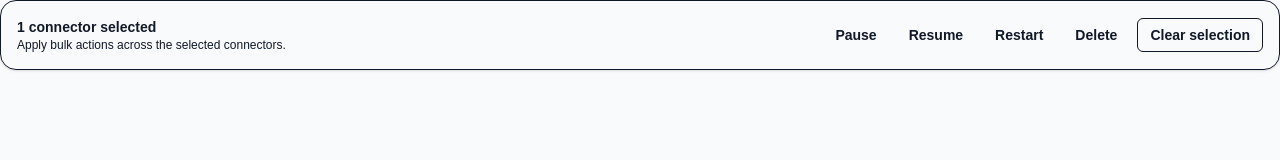
Test: ConnectorBulkActions › runs the chosen action and clears selection on success
Click the button "Pause" at (856, 35), box [823,19,889,51]
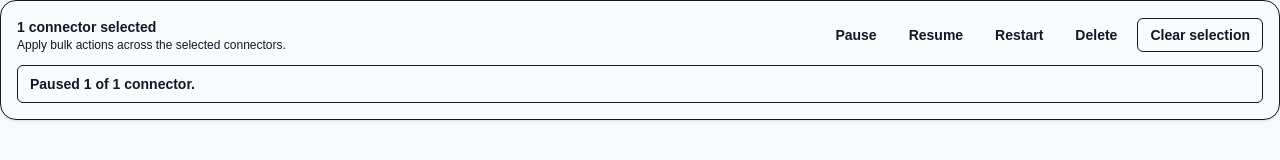
Check: the text "Paused 1 of 1 connector." is shown, box [30,76,195,92]
